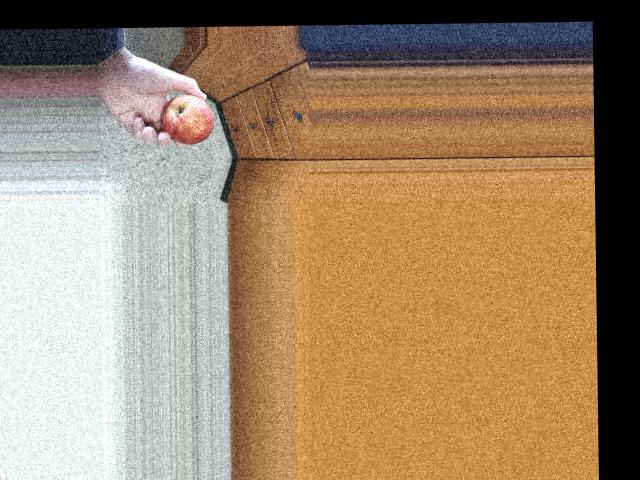apple: (146, 85, 216, 145)
